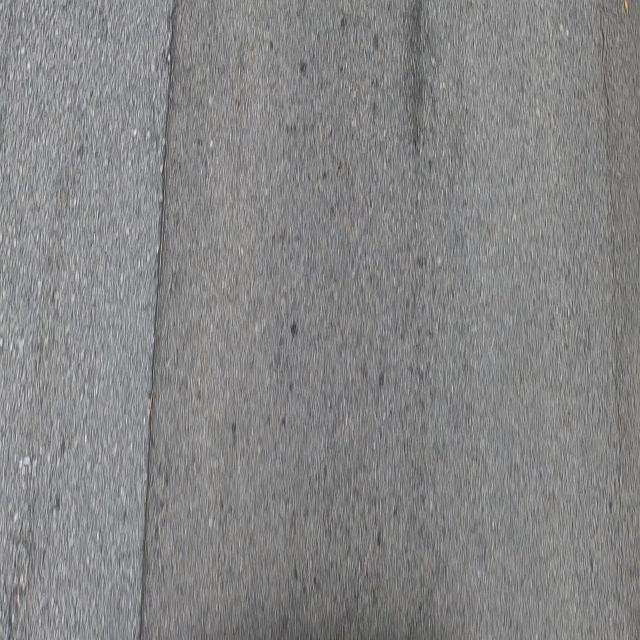Retak-Memanjang: (129, 0, 182, 640)
